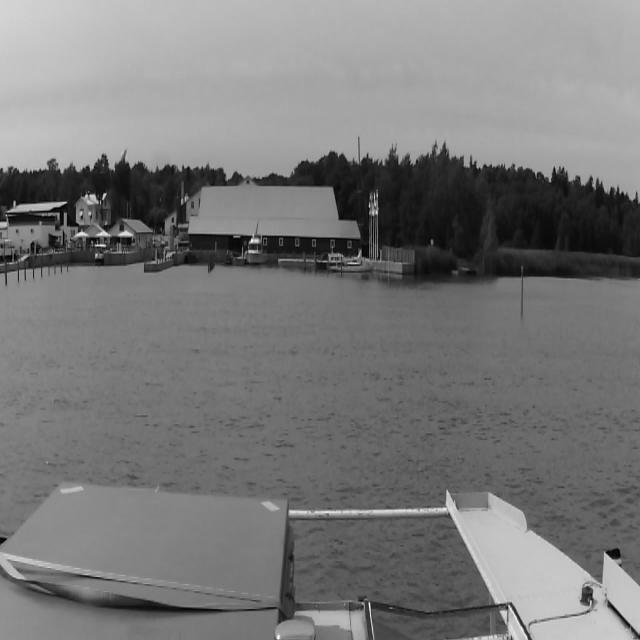ship: (328, 252, 374, 272), (248, 238, 262, 263)
